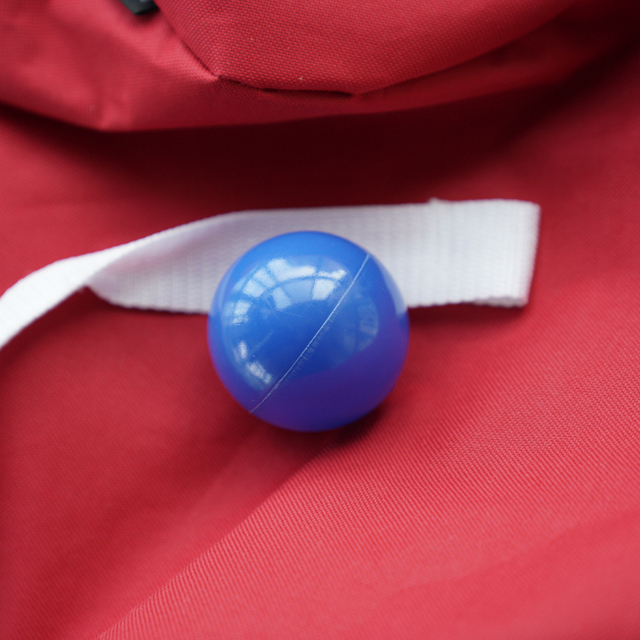Ball: (206, 233, 409, 433)
